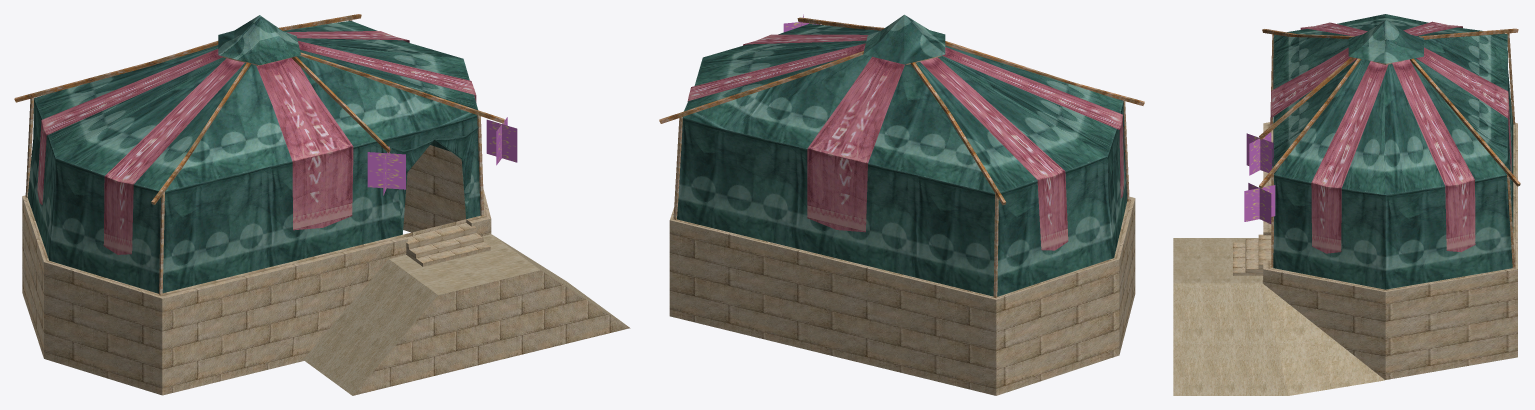
The model's file is ply_nboo_idesigner_tent_s01_r0_mesh_l0.fbx.
The picture shows the model from 3 angles, left to right: view 1: azimuth 30°, elevation 25°; view 2: azimuth 150°, elevation 25°; view 3: azimuth 270°, elevation 25°; orthographic projection. The views are drawn at different scales.
Parts seen in each view (by area): view 1: mesh_node; view 2: mesh_node; view 3: mesh_node.
Boxes of the visible parts, left/top/right/bottom form: mesh_node: left=14, top=14, right=630, bottom=395; mesh_node: left=659, top=14, right=1144, bottom=395; mesh_node: left=1173, top=14, right=1520, bottom=395.
Bounding box in the file's own units: 17.22 × 10.19 × 12.12.
